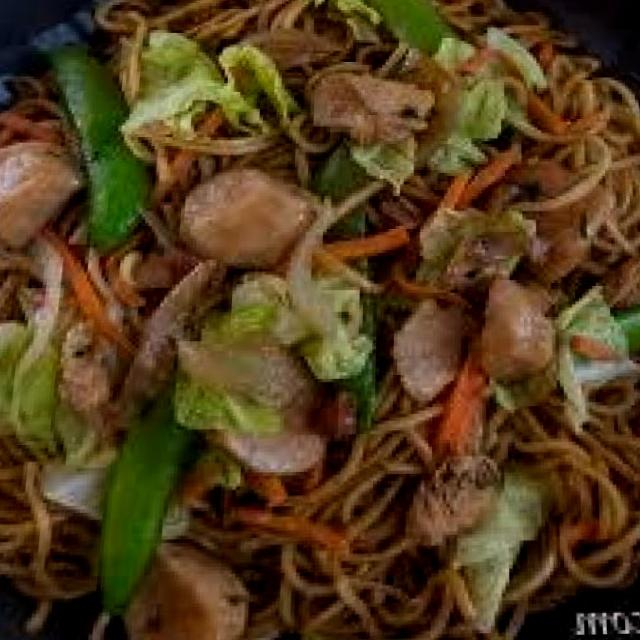pancit bihon: (0, 3, 639, 639)
